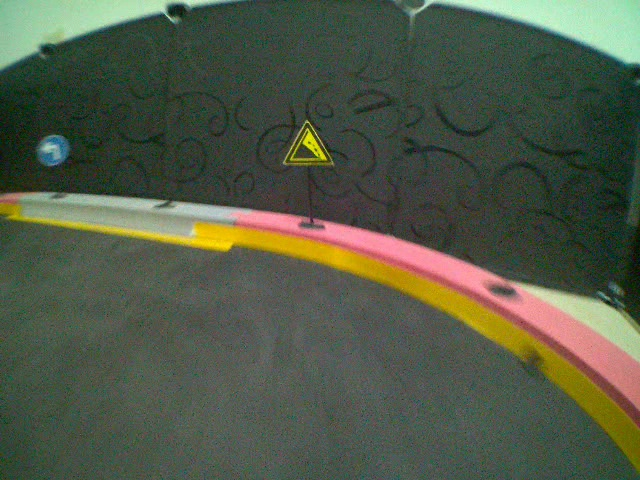fast: (282, 119, 334, 166)
turn: (35, 134, 69, 168)
